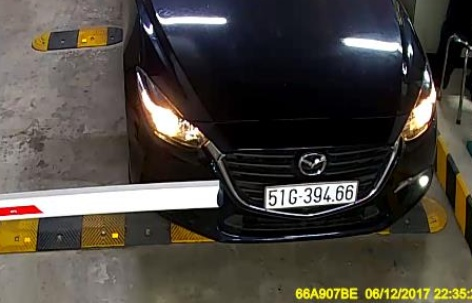plate: (261, 174, 359, 214)
